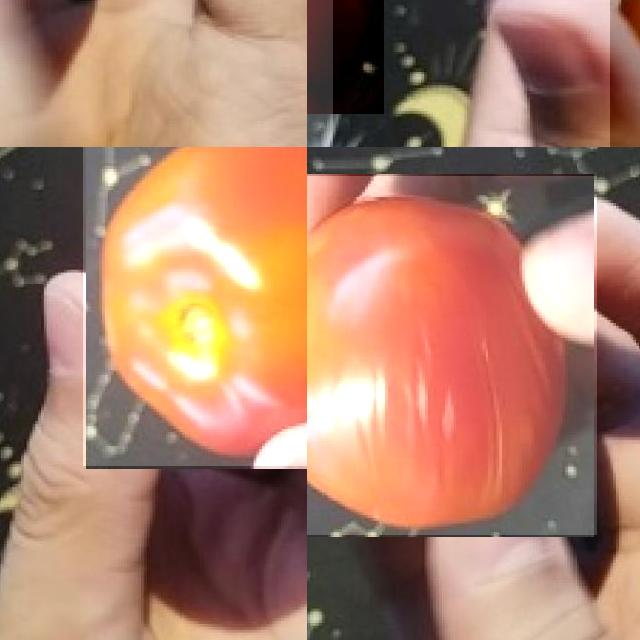Fresh Tomato: (83, 147, 307, 466)
Rotten Tomato: (307, 176, 597, 534)
